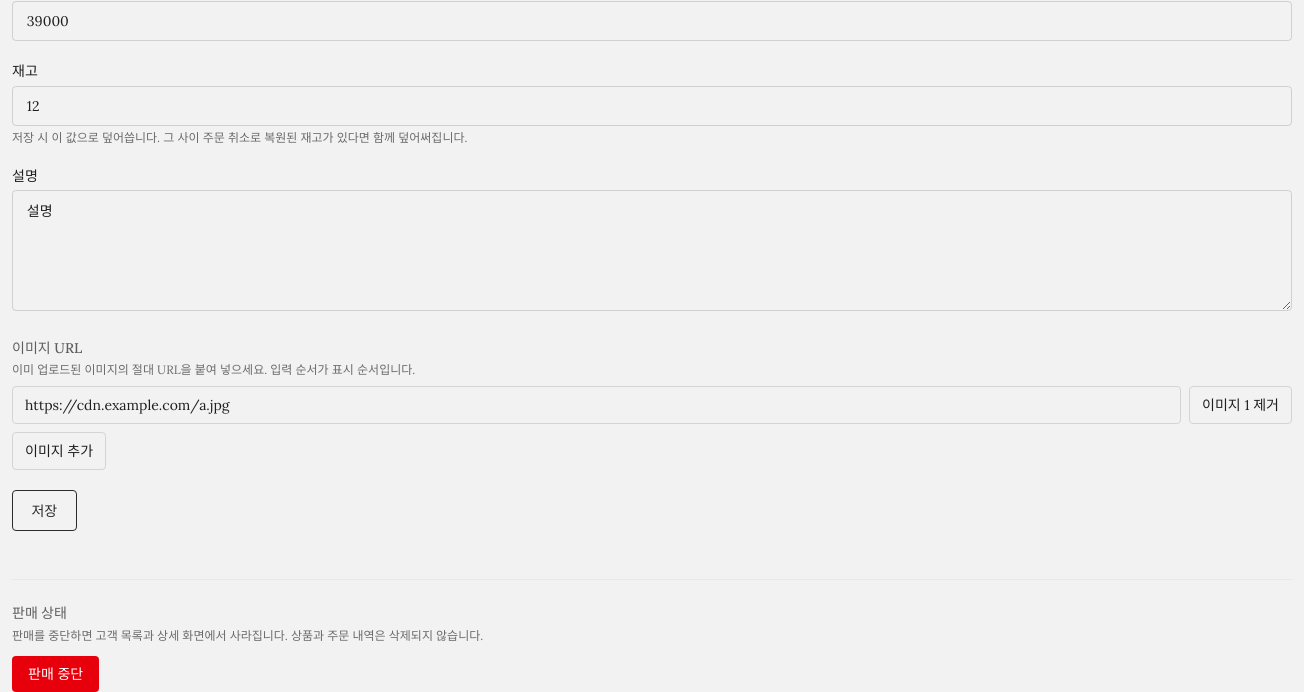
Test case: [AC-ADMIN-046a] ProductForm reads a redirect as a failure, not a success › suspend/restore: shows the dedicated message and never flips isActive
The image size is (1304, 692).
(page scrolled)
Click the button "판매 중단" at [56, 674], box [12, 656, 99, 691]
(page scrolled)
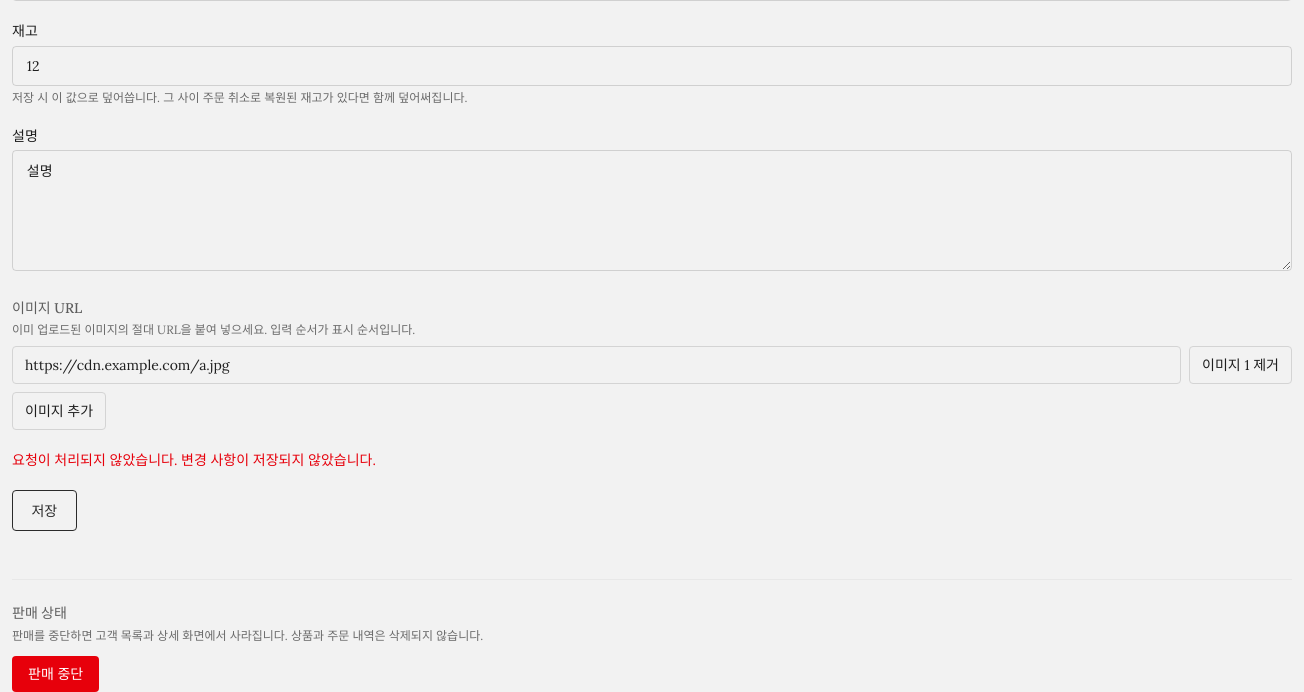
Result: the text "요청이 처리되지 않았습니다. 변경 사항이 저장되지 않았습니다." is shown at [12, 451, 376, 469]
